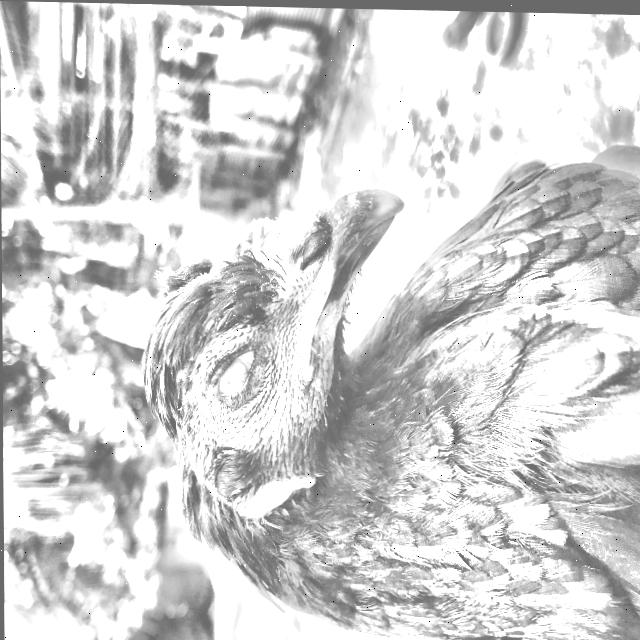Coryza: (121, 86, 640, 640)
